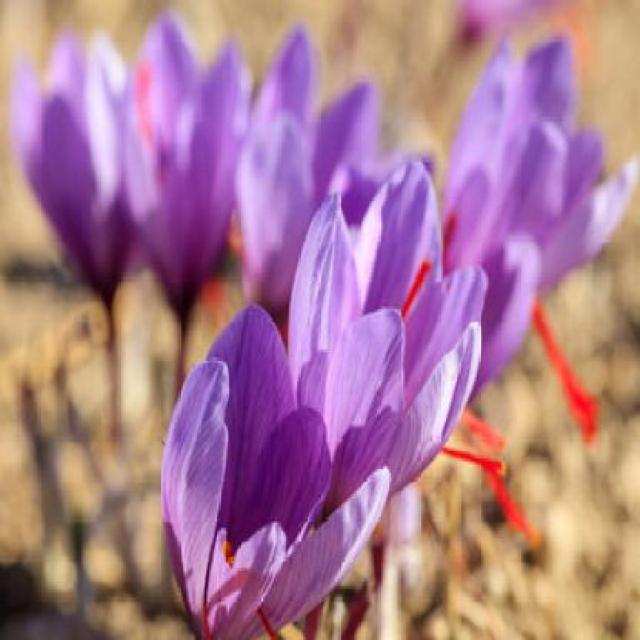Flower: (136, 294, 358, 615), (292, 154, 486, 500), (461, 32, 633, 332), (126, 26, 246, 320), (17, 20, 132, 294)
stigma: (448, 442, 539, 554), (532, 297, 603, 440), (402, 239, 434, 327)
